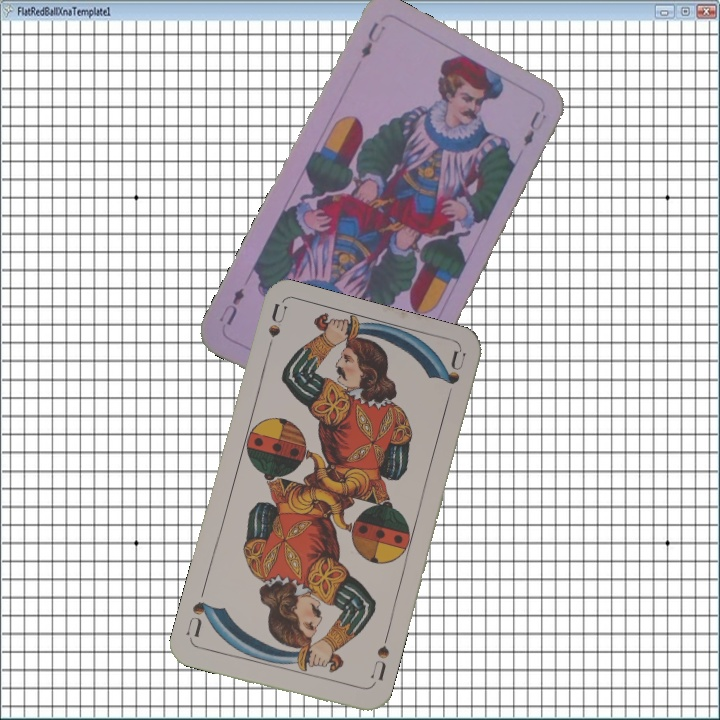EU: (357, 18, 388, 61)
SU: (261, 301, 291, 360), (366, 641, 392, 690)
